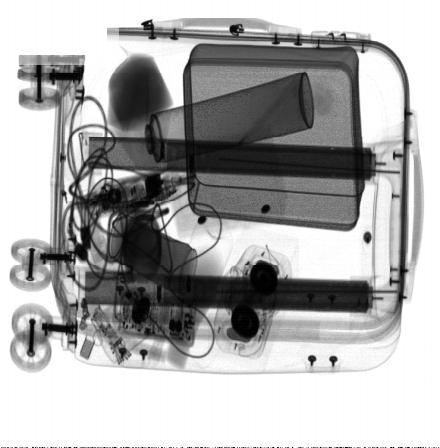Sprayer: (130, 72, 314, 167)
